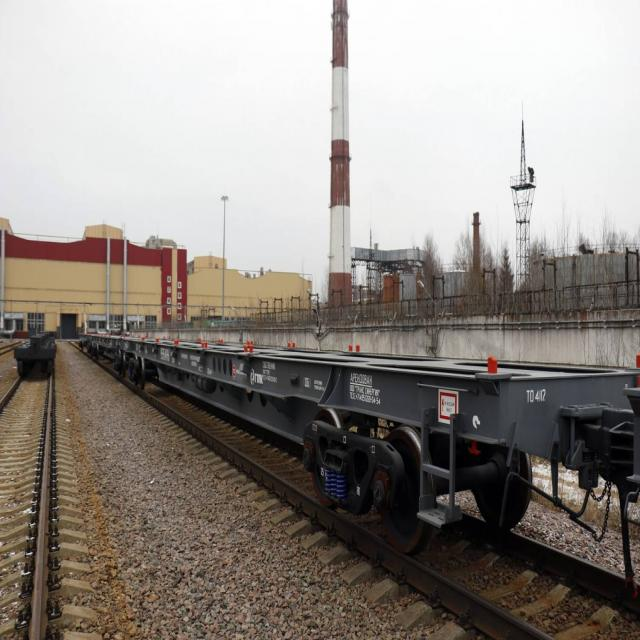flatcar: (124, 333, 640, 566)
